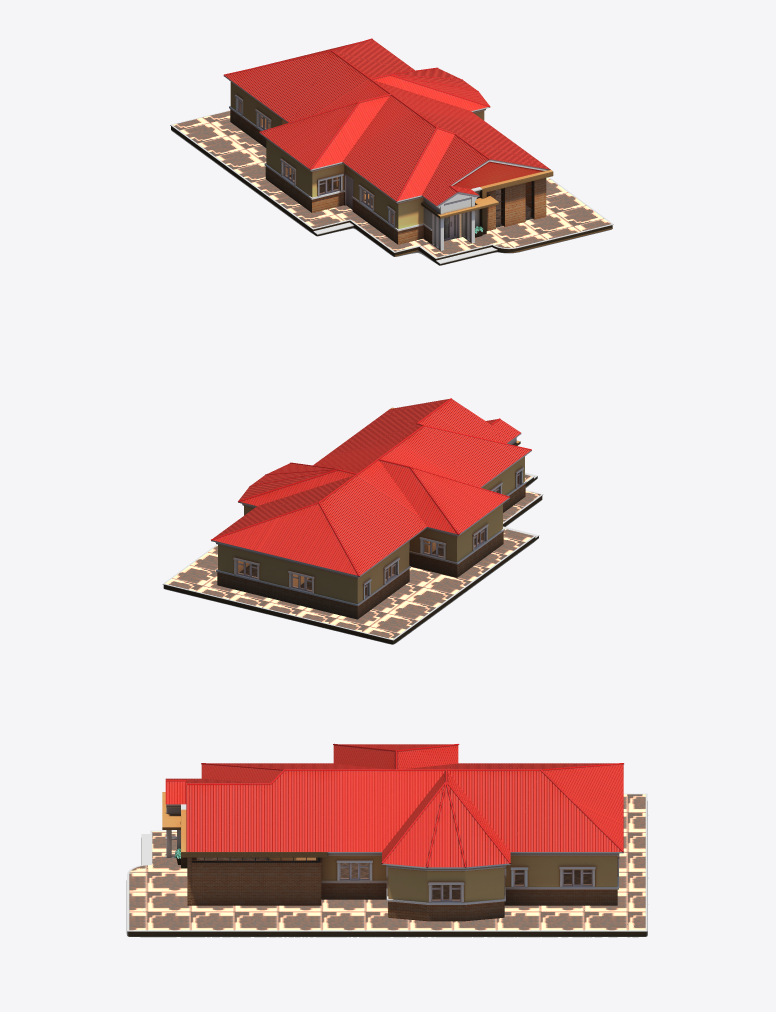
File: Exterior_02.FBX
3 views of the same model, one above another, from view 1: azimuth 30°, elevation 25°; view 2: azimuth 150°, elevation 25°; view 3: azimuth 270°, elevation 25° (orthographic). The views are drawn at different scales.
Parts seen in each view (by area): view 1: roof, ground floor, ext_wall_coat, brick wall, ground skirt, moulding, ridge cap, concrete work, frames, fader; view 2: roof, ground floor, ext_wall_coat, brick wall, moulding, ground skirt, ridge cap, frames, fader; view 3: roof, ground floor, brick wall, ext_wall_coat, ground skirt, moulding, ridge cap, concrete work, floor, frames, fader, brick shoulder.
Part boxes in pixels (x1,y1,x2,y2): roof: [224, 39, 550, 205]; ground floor: [172, 111, 610, 257]; ext_wall_coat: [230, 82, 484, 250]; brick wall: [230, 109, 546, 244]; ground skirt: [170, 110, 613, 265]; moulding: [224, 75, 550, 231]; ridge cap: [223, 38, 490, 201]; concrete work: [421, 170, 553, 237]; frames: [238, 99, 532, 241]; fader: [171, 130, 612, 265]; roof: [212, 399, 531, 575]; ground floor: [165, 474, 540, 639]; ext_wall_coat: [218, 438, 524, 603]; brick wall: [217, 484, 525, 619]; moulding: [211, 433, 531, 606]; ground skirt: [162, 472, 543, 644]; ridge cap: [211, 398, 531, 576]; frames: [237, 472, 519, 597]; fader: [164, 478, 542, 644]; roof: [165, 744, 623, 867]; ground floor: [129, 794, 645, 930]; brick wall: [187, 857, 617, 921]; ext_wall_coat: [165, 808, 617, 902]; ground skirt: [127, 793, 647, 936]; moulding: [166, 804, 623, 904]; ridge cap: [165, 743, 623, 867]; concrete work: [162, 792, 327, 868]; floor: [196, 857, 591, 899]; frames: [192, 857, 592, 901]; fader: [126, 801, 647, 937]; brick shoulder: [192, 857, 321, 864].
Size of the model in its own units: 30000 by 5327 by 36000.
